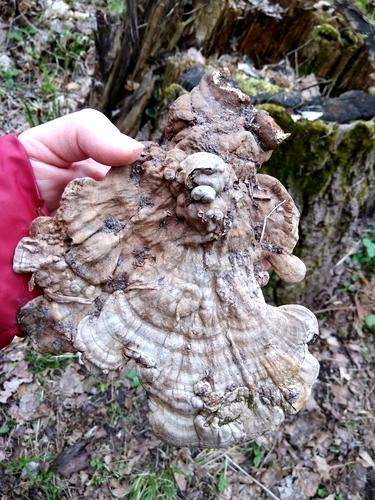Ganoderma - Fruit Body: (17, 75, 323, 437)
